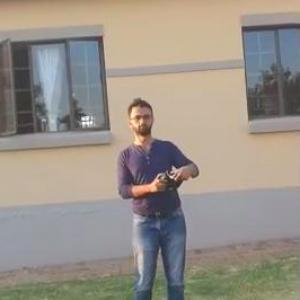follow: (110, 91, 209, 299)
